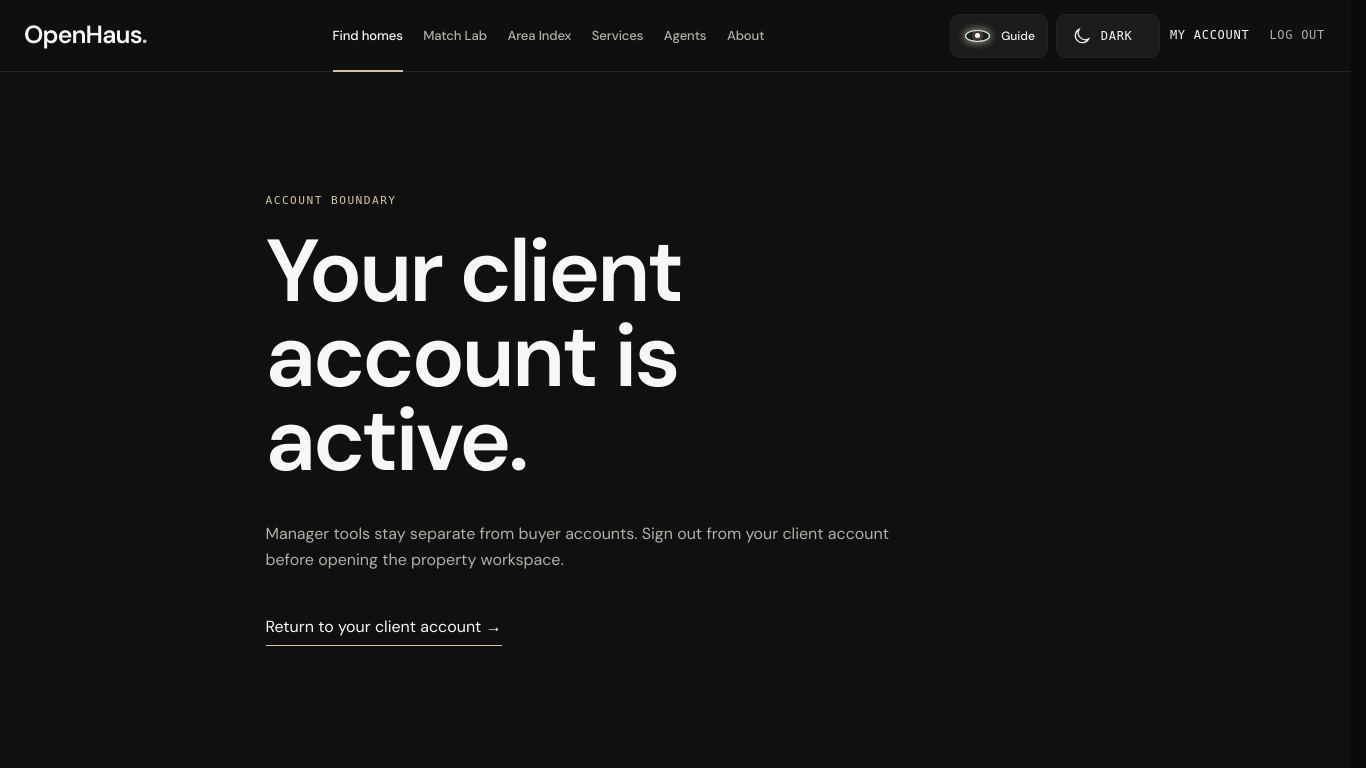
Test: manager application › updates the manager boundary immediately after the active client logs out
Expected: the heading "Your client account is active." is shown, left=266, top=214, right=681, bottom=497
Click the button "Log out" at (1297, 36), box left=1267, top=14, right=1327, bottom=58
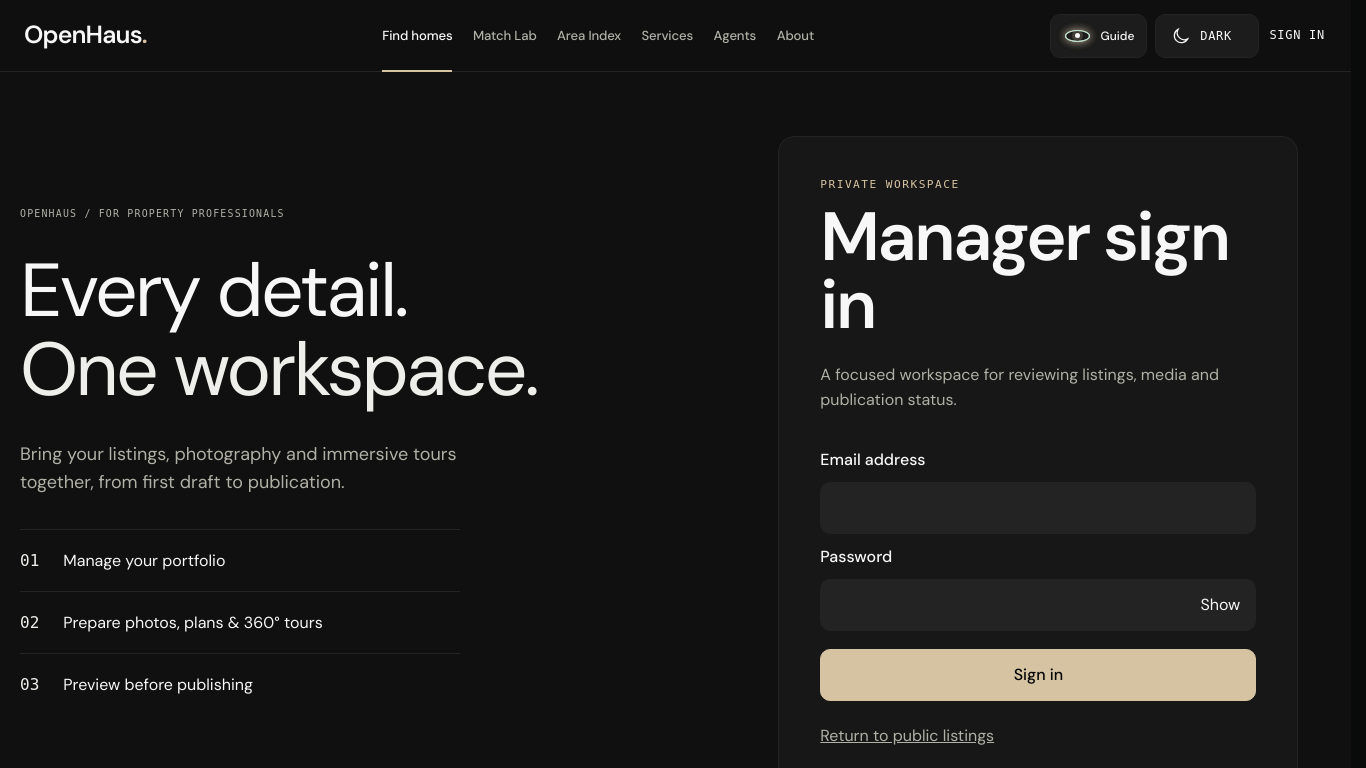
Now the heading "Manager sign in" is shown, box left=820, top=203, right=1256, bottom=340
